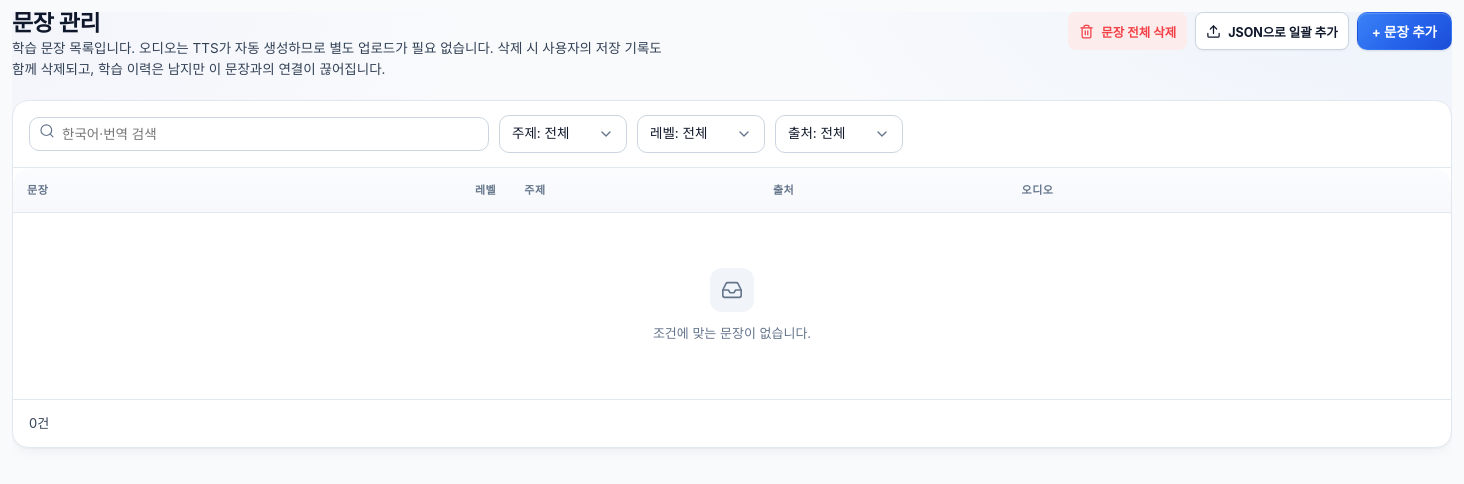
it: SentencesPage filters › still writes the same query parameter when a level is picked
The image size is (1464, 484).
Click the button "레벨: 전체" at (701, 134), box 637,115 -> 765,153
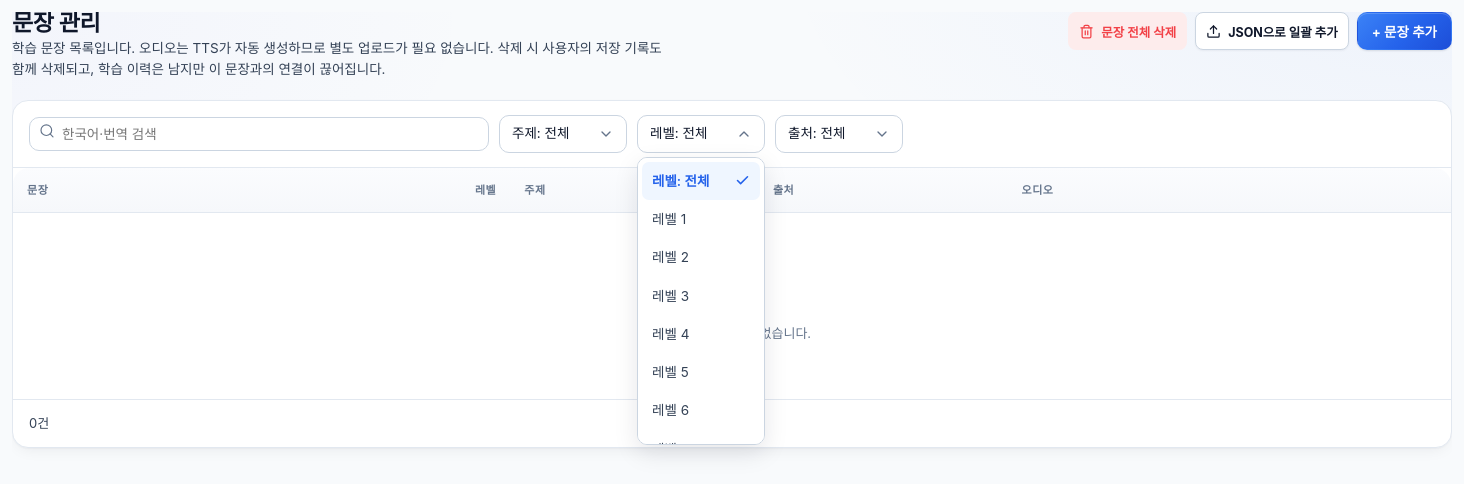
Click the option "레벨 3" at (670, 296), box 652,288 -> 689,304
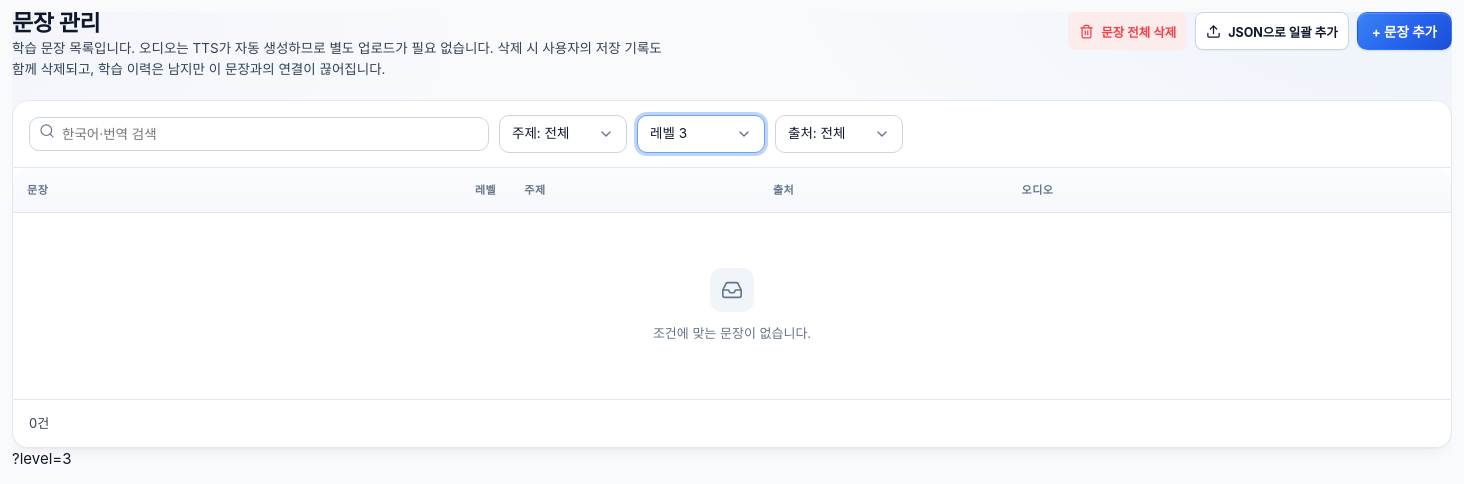
Now the text with test id "loc" shows "level=3", box 12,449 -> 72,468
